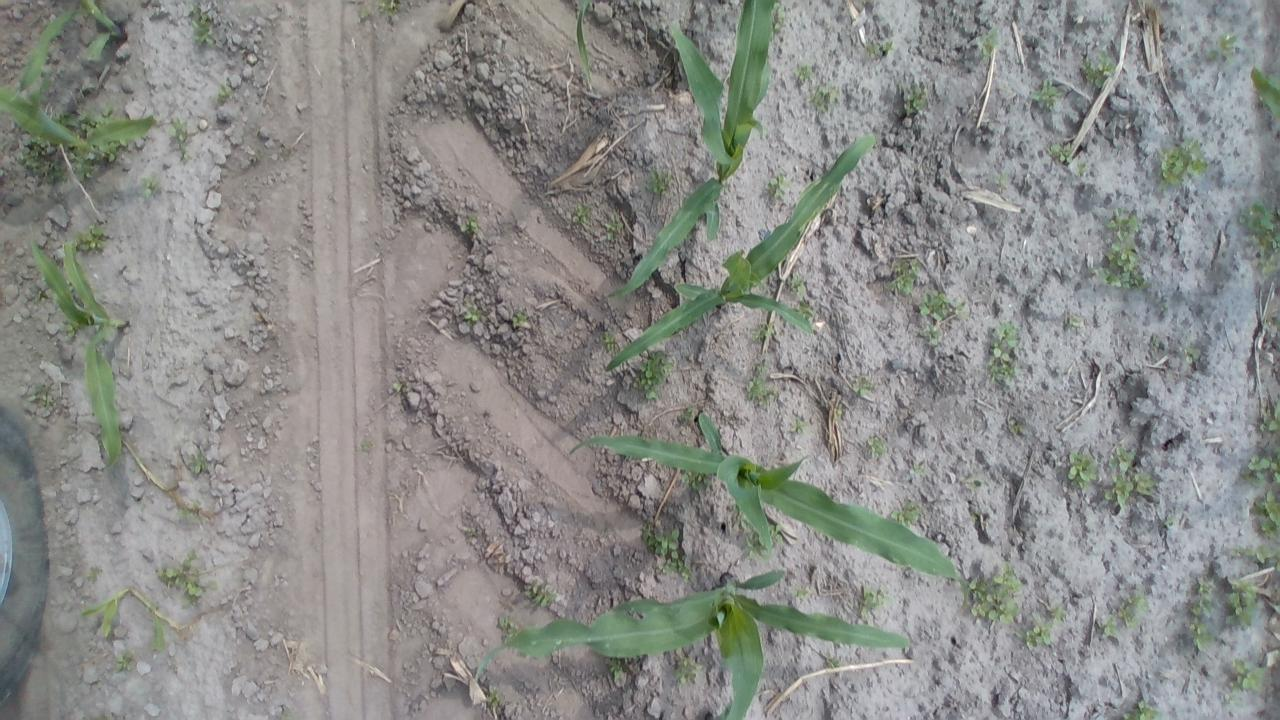Maize: (572, 406, 973, 608), (474, 569, 919, 719), (603, 140, 881, 378), (607, 8, 782, 302), (35, 228, 134, 478), (0, 22, 155, 162), (10, 0, 142, 126), (574, 0, 602, 92), (1248, 66, 1278, 122)
Weeds: (1089, 209, 1151, 293), (966, 564, 1022, 624), (154, 551, 208, 606), (1240, 198, 1278, 275), (1156, 137, 1208, 187), (20, 142, 67, 187), (989, 320, 1020, 386), (1222, 578, 1260, 628), (634, 354, 675, 400), (1226, 658, 1268, 702), (647, 539, 692, 577), (1248, 66, 1277, 122), (1021, 606, 1063, 642), (1017, 612, 1057, 648), (885, 259, 921, 295), (645, 529, 685, 561), (1066, 449, 1098, 489), (1081, 54, 1117, 89), (1253, 489, 1278, 539), (188, 3, 216, 47), (1028, 78, 1062, 114), (1116, 589, 1146, 629), (1190, 578, 1216, 622), (1106, 470, 1136, 508), (1242, 452, 1276, 485), (168, 116, 192, 162), (916, 288, 950, 320), (856, 586, 890, 618), (810, 82, 840, 116), (744, 528, 776, 559), (1206, 33, 1238, 63), (1187, 616, 1213, 652), (673, 654, 699, 688), (746, 370, 772, 403), (526, 581, 557, 608), (77, 226, 108, 252), (890, 500, 921, 526), (646, 168, 674, 196), (1035, 603, 1066, 628), (1120, 700, 1160, 719), (765, 173, 792, 201), (903, 84, 927, 115), (602, 210, 624, 242), (1108, 443, 1135, 469), (28, 384, 54, 409), (1048, 140, 1074, 164), (1134, 468, 1154, 498), (1250, 544, 1276, 566), (980, 29, 999, 59), (868, 37, 894, 58), (849, 375, 873, 397), (461, 302, 484, 324), (188, 453, 210, 476), (572, 203, 592, 228), (1260, 406, 1277, 435), (750, 323, 774, 343), (372, 1, 400, 18), (680, 472, 706, 490), (1097, 616, 1118, 638), (484, 686, 504, 709), (788, 274, 810, 294), (794, 63, 816, 83), (793, 299, 816, 318), (115, 650, 135, 671), (462, 213, 481, 235), (771, 4, 785, 33), (512, 310, 532, 330), (867, 435, 886, 456), (600, 330, 618, 352), (1182, 343, 1200, 364), (214, 81, 232, 102), (923, 323, 941, 344), (142, 178, 160, 198), (99, 103, 118, 121), (610, 658, 624, 682), (178, 503, 200, 518), (995, 170, 1013, 188), (61, 320, 78, 339), (1064, 312, 1082, 329), (498, 618, 516, 634), (792, 416, 807, 435), (790, 586, 810, 600), (911, 461, 928, 477), (85, 568, 103, 582), (954, 298, 969, 314), (1009, 420, 1023, 436), (392, 378, 406, 393), (360, 439, 372, 454), (682, 405, 694, 419)
